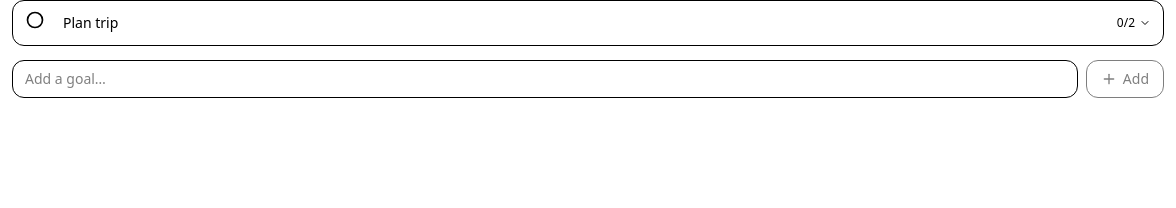
Test: GoalsList - Subtasks › does not duplicate existing subtasks while the add-field is open
Click the button named "Show subtasks". click: (1134, 23)
box: [1117,15,1151,31]
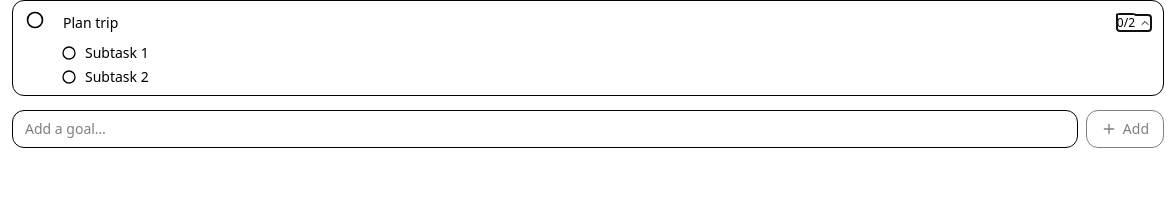
Click the button "Plan trip". click: (91, 22)
box: [55,9,1107,37]
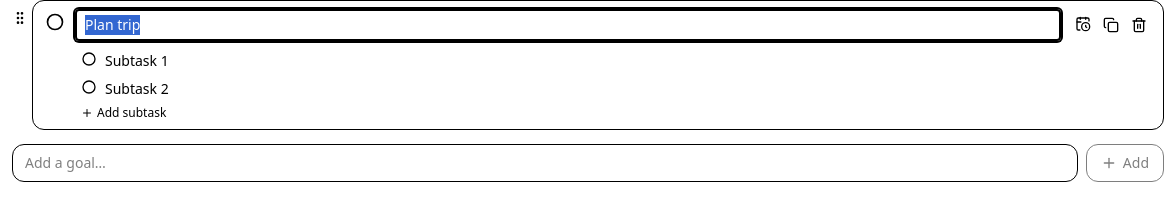
Click the button "Add subtask". click: (124, 113)
box: [81,105,166,121]
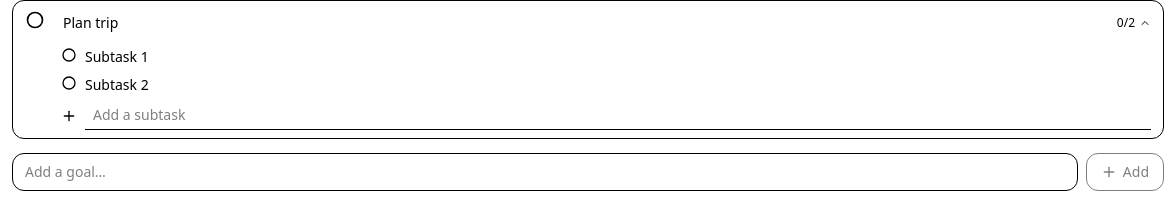
Expected: the text "Subtask 1" is shown once, [85,47,149,66]
Expected: the field labelled "Add a subtask" is shown, [85,101,1151,130]
